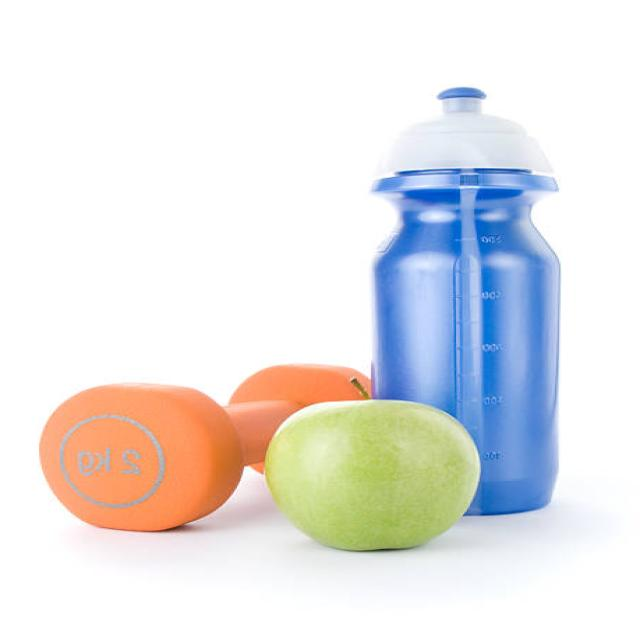blue_bottle: (359, 64, 578, 522)
